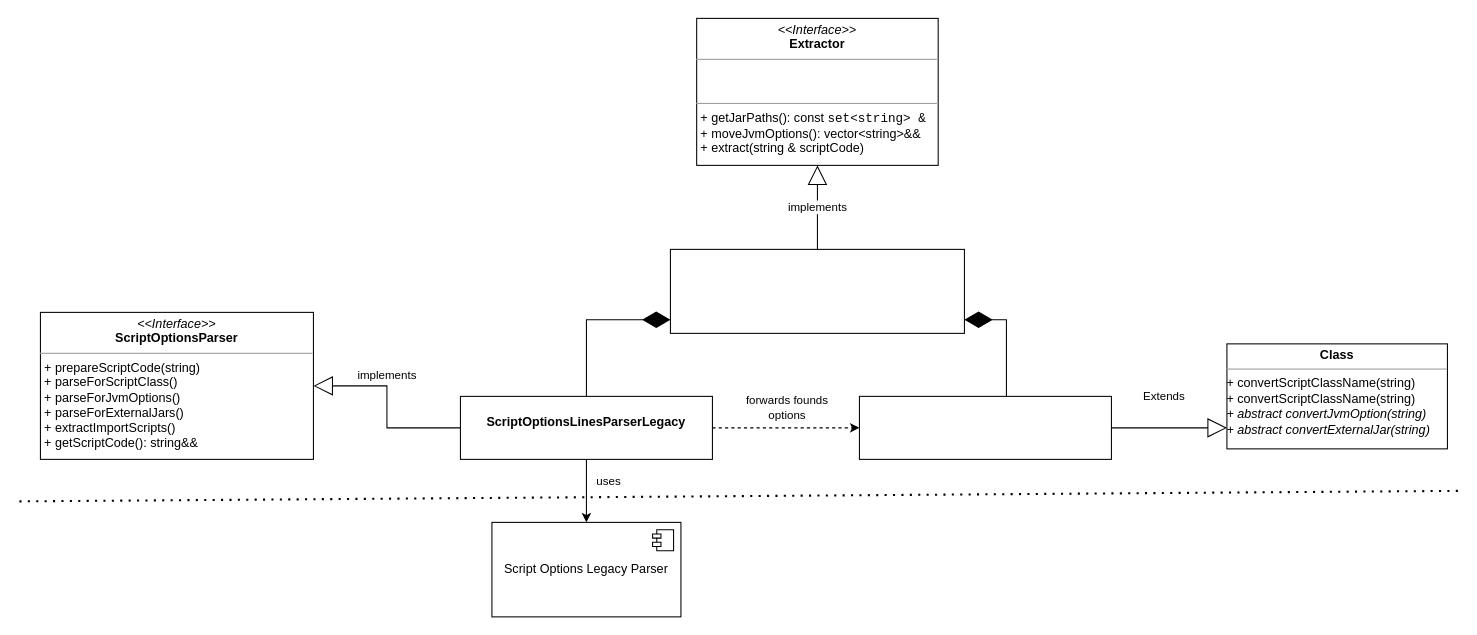
Image size: 1477x635. Some labels were removed from this diagram. The centre of each missing label's shape, as x and y in pixels:
"ConverterLegacy" goes at (x=984, y=427).
"tLegacyExtractor" goes at (x=816, y=290).
